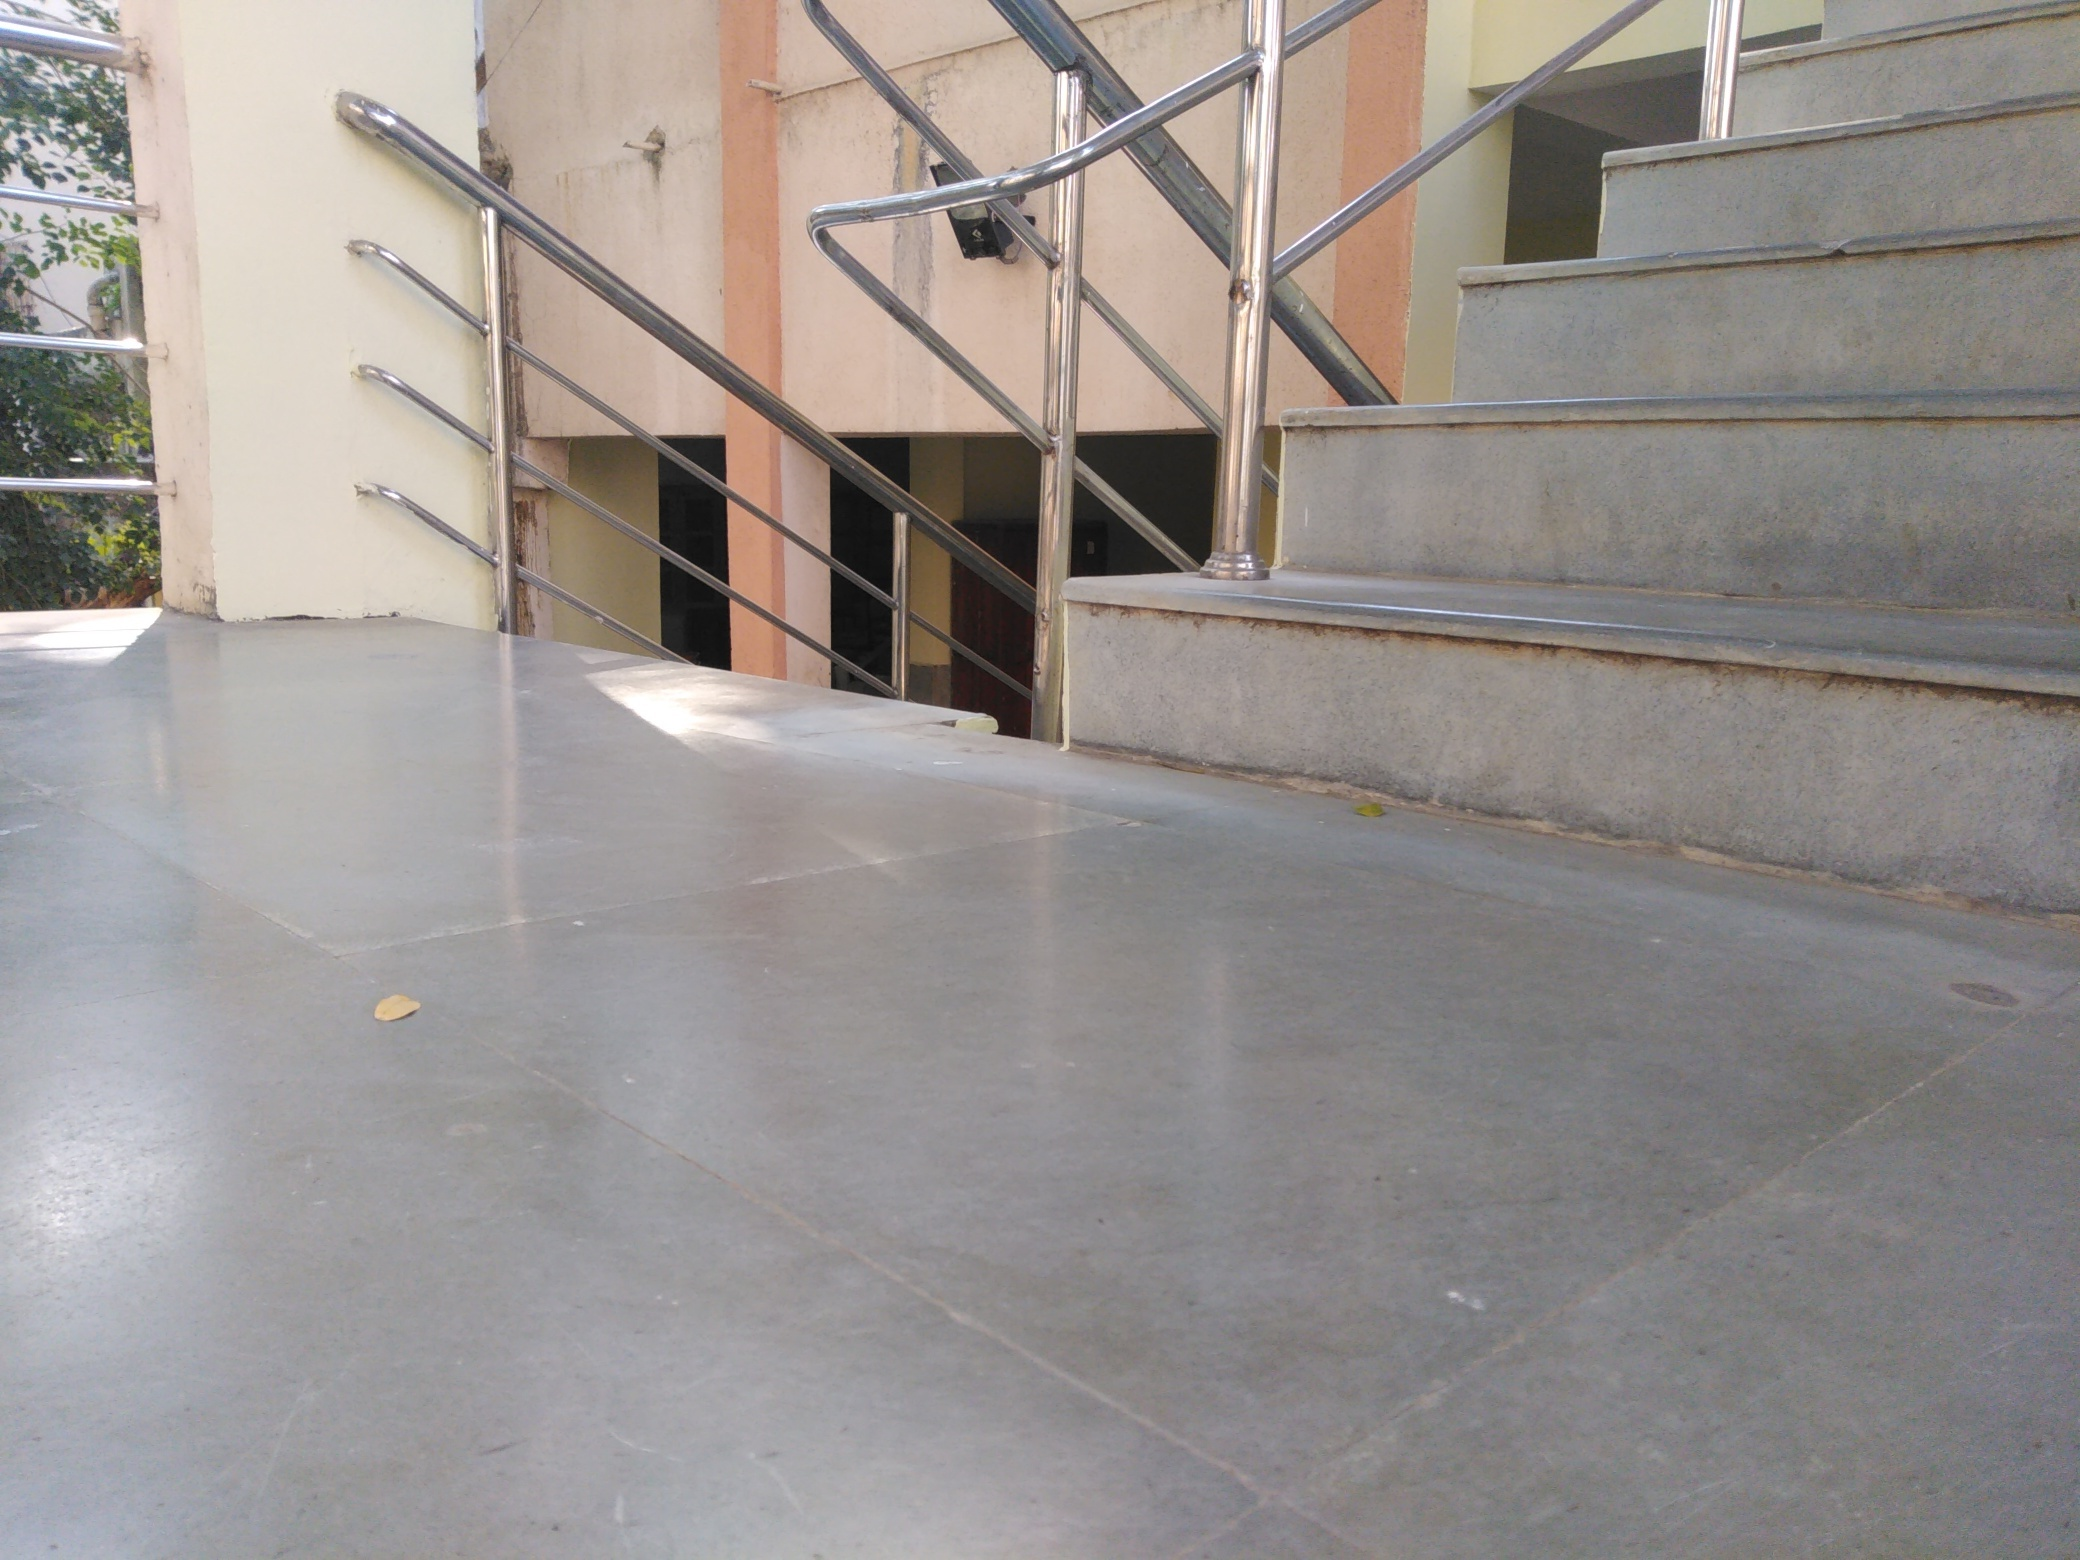stairs_up: (1078, 3, 2072, 890)
